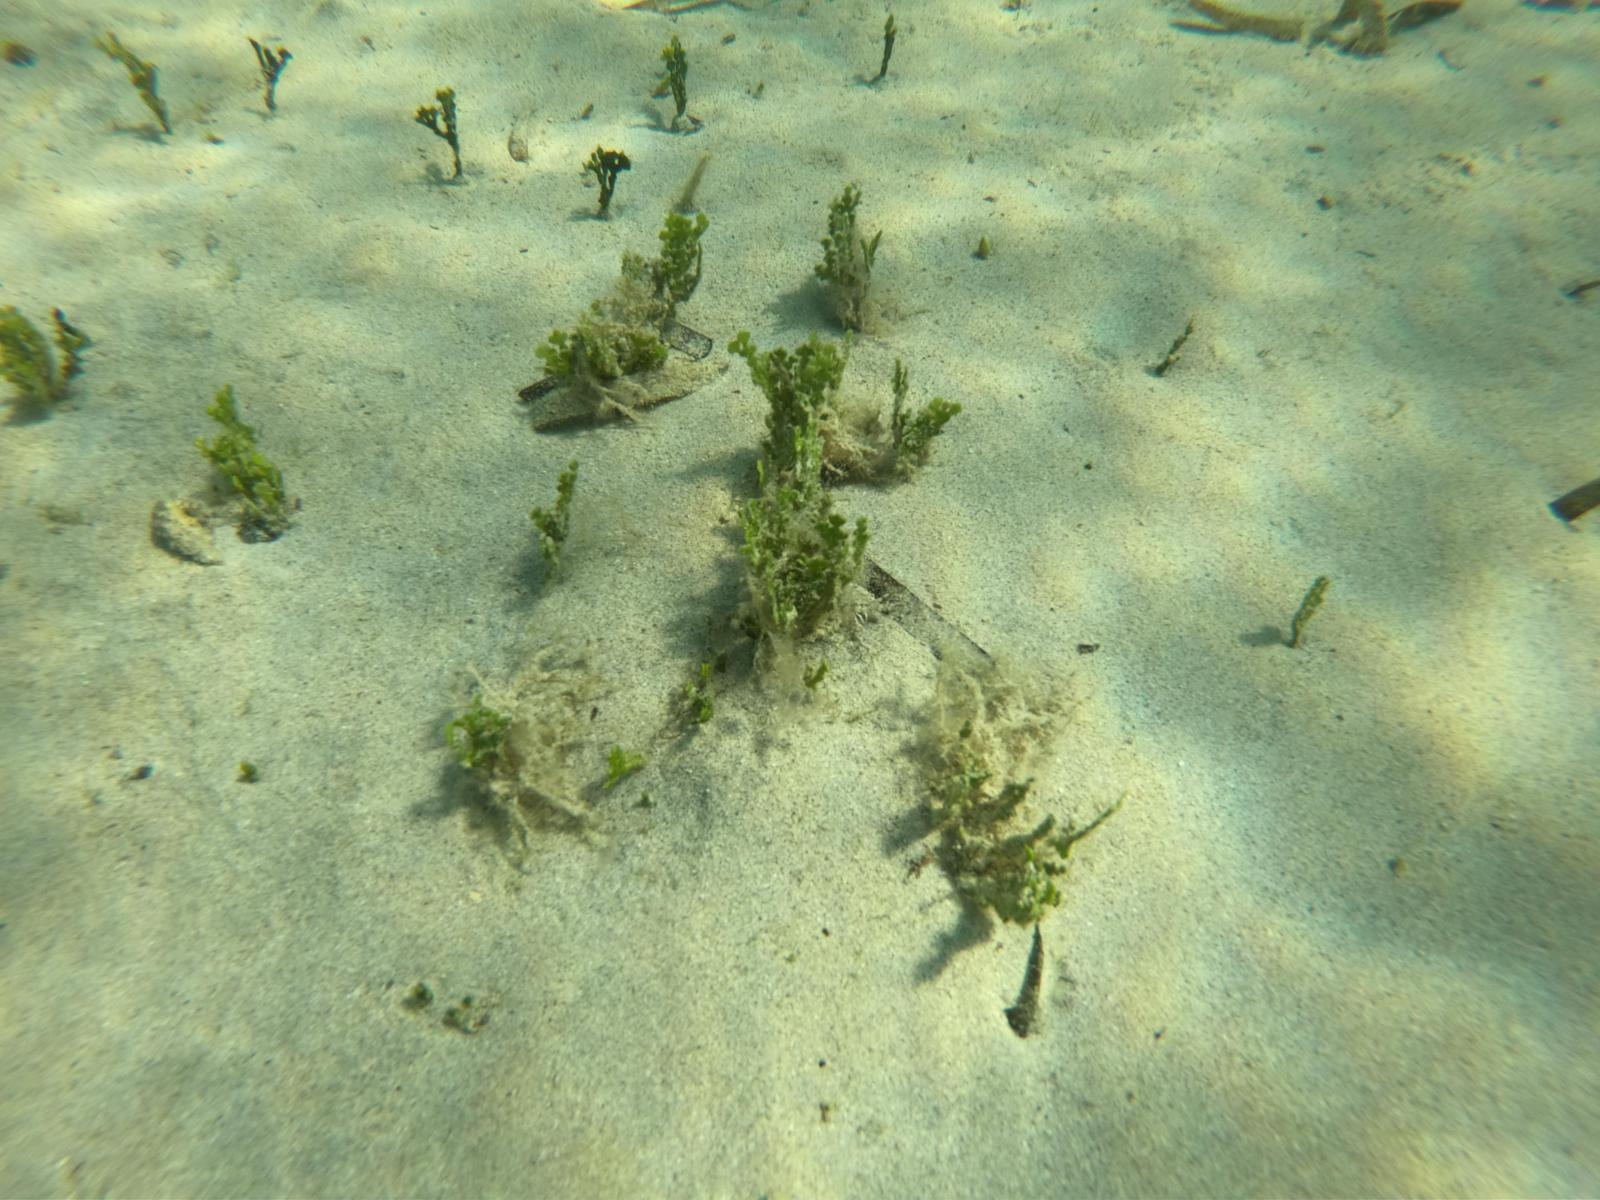halimeda: (937, 755, 1072, 923), (728, 492, 866, 629), (729, 330, 843, 485), (195, 381, 282, 521), (1, 292, 86, 420), (630, 211, 703, 316), (884, 355, 955, 461), (537, 324, 665, 382), (816, 190, 876, 303), (108, 42, 175, 134), (524, 461, 574, 577), (436, 700, 511, 776), (413, 81, 467, 180), (244, 37, 294, 113), (582, 142, 630, 216), (1286, 568, 1333, 643), (660, 32, 693, 117), (671, 664, 713, 730), (876, 13, 903, 79), (603, 747, 643, 785)
